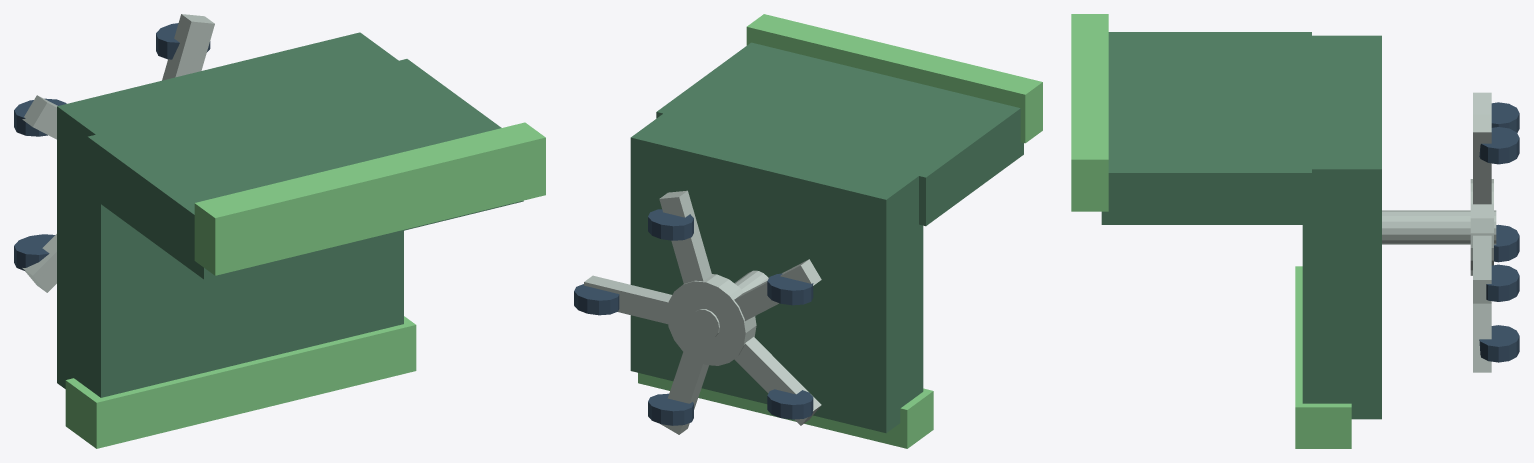
File: wheeled_lounge_chair.glb
3 views of the same model, side by side, from view 1: azimuth 30°, elevation 25°; view 2: azimuth 150°, elevation 25°; view 3: azimuth 270°, elevation 25° (orthographic). The views are drawn at different scales.
Parts seen in each view (by area): view 1: wheeled_lounge_chair; view 2: wheeled_lounge_chair; view 3: wheeled_lounge_chair.
Part boxes in pixels (left/top/right/bottom): wheeled_lounge_chair: left=14, top=14, right=545, bottom=448; wheeled_lounge_chair: left=574, top=14, right=1042, bottom=448; wheeled_lounge_chair: left=1071, top=14, right=1519, bottom=448.
Size of the model in its own units: 0.6 by 0.56 by 0.78.
